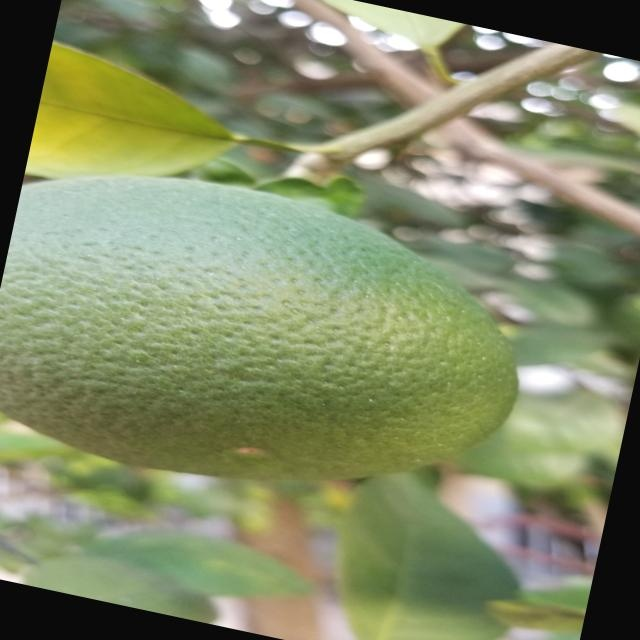agrume: (0, 134, 552, 540)
